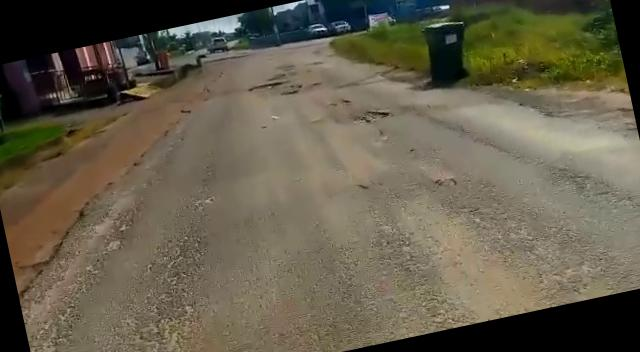pothole: (354, 103, 392, 125), (245, 76, 286, 94), (278, 88, 300, 98)
